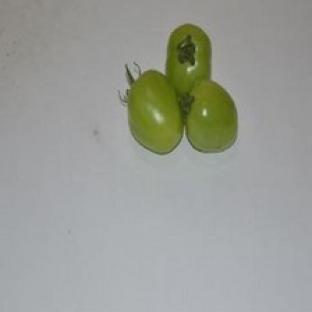Tomato: (127, 70, 183, 154), (186, 80, 238, 151), (166, 24, 211, 94)
